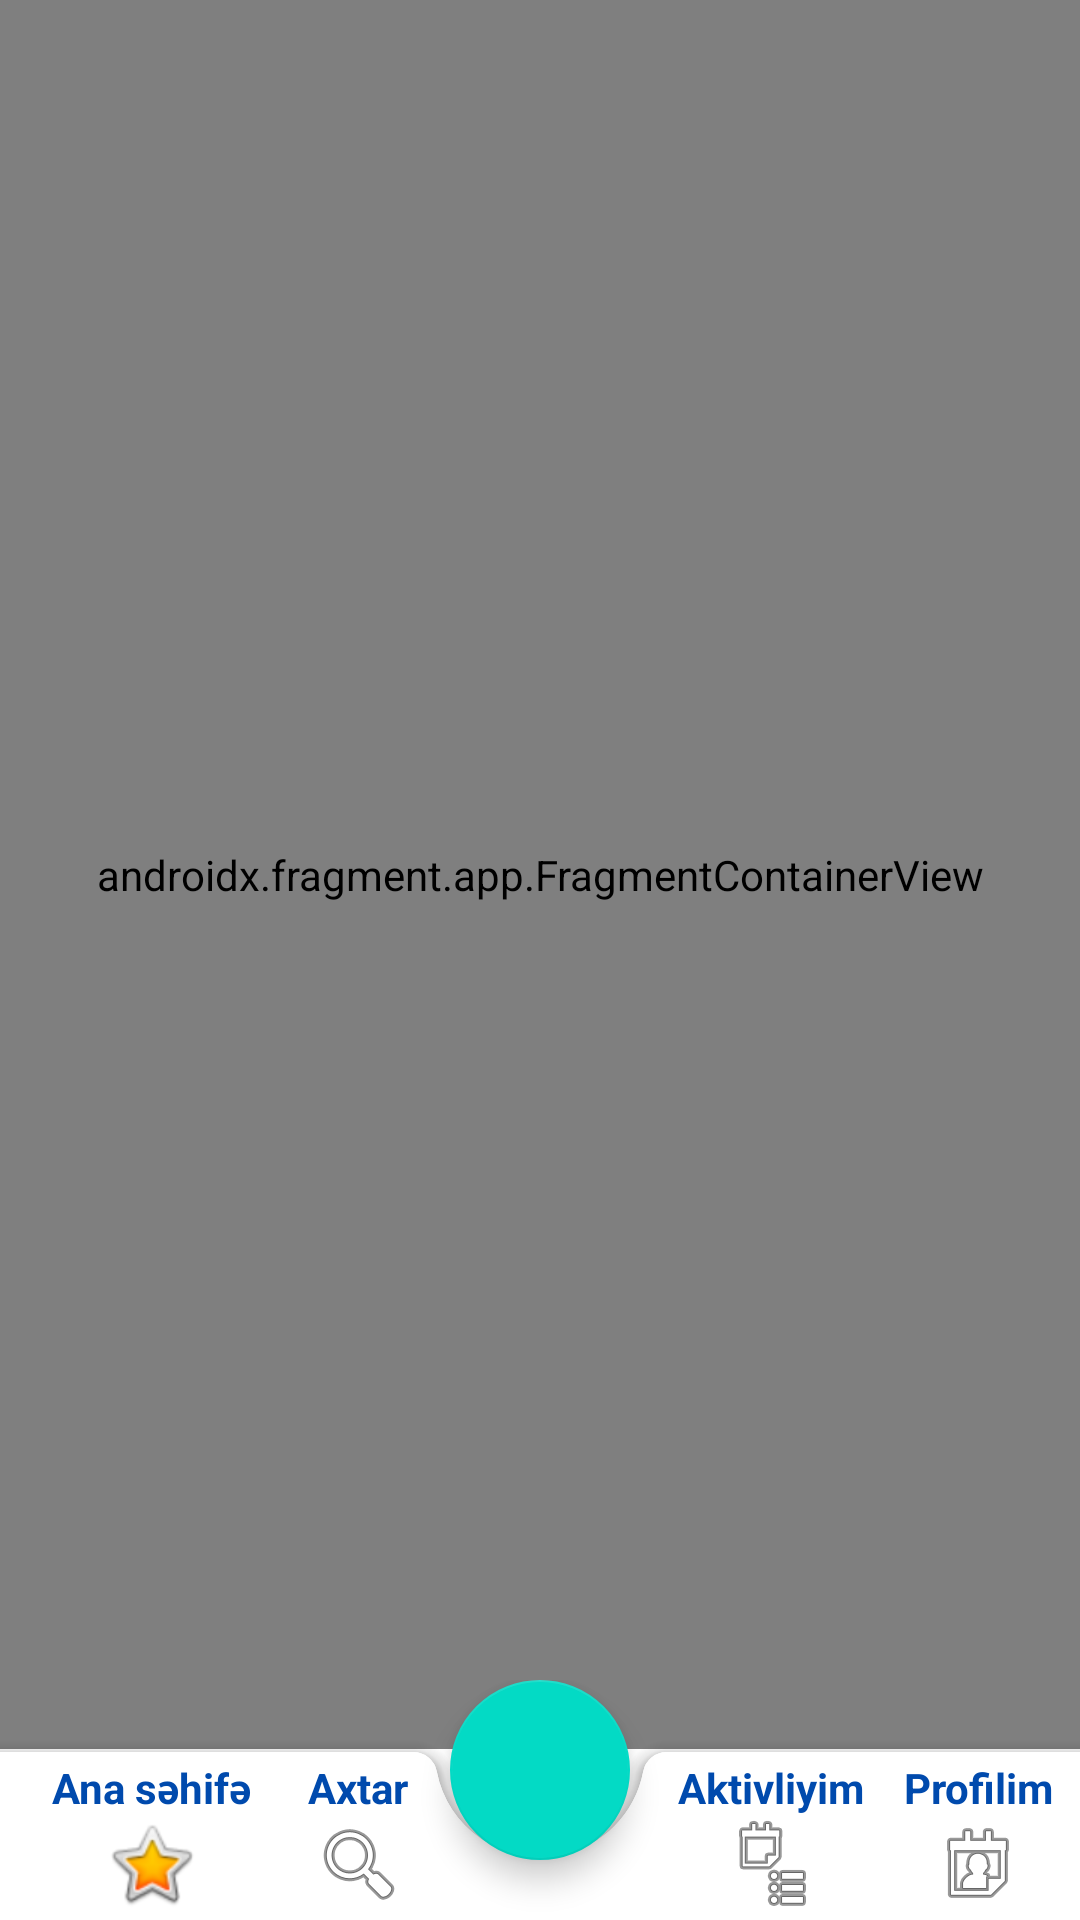

Named icons in this screenshot (1080w x 1920h) and their centers, point (x, y):
agenda: point (772, 1863)
calendar: point (978, 1863)
star on: point (152, 1865)
